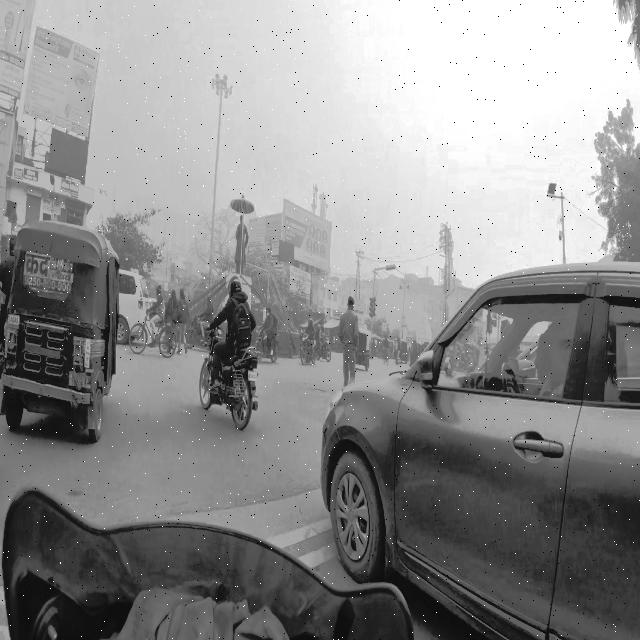Auto-Rickshaw: (0, 215, 118, 450)
Bike: (198, 268, 271, 448), (256, 300, 284, 370)
Car: (315, 260, 640, 640), (111, 264, 147, 354)
